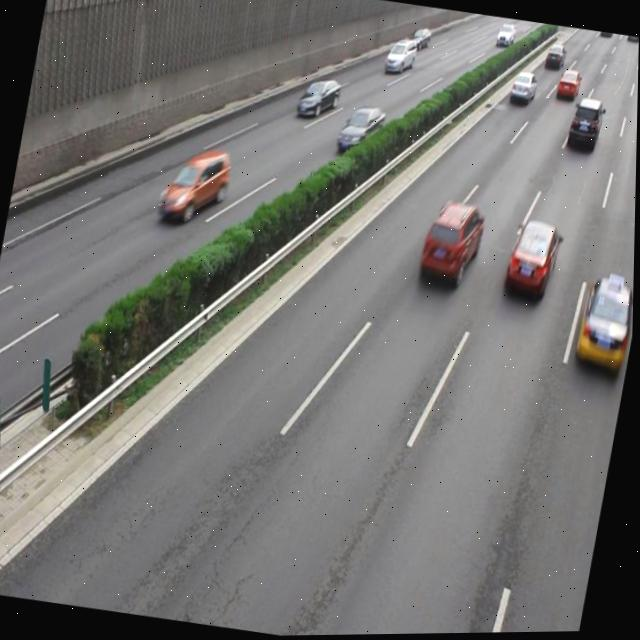car: (157, 140, 235, 230), (416, 195, 489, 290), (572, 273, 635, 376), (502, 216, 563, 304), (335, 102, 386, 158), (565, 95, 606, 157), (296, 75, 342, 123)
